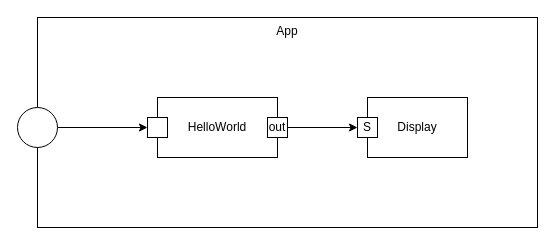
Image size: 555x245. Some labels were removed from this diagram. The shapes that lost their labels are listed below. From the top down, each one's centre as x and y in pixels, then its label:
At point (37, 127): "go".
At point (157, 127): "in".
